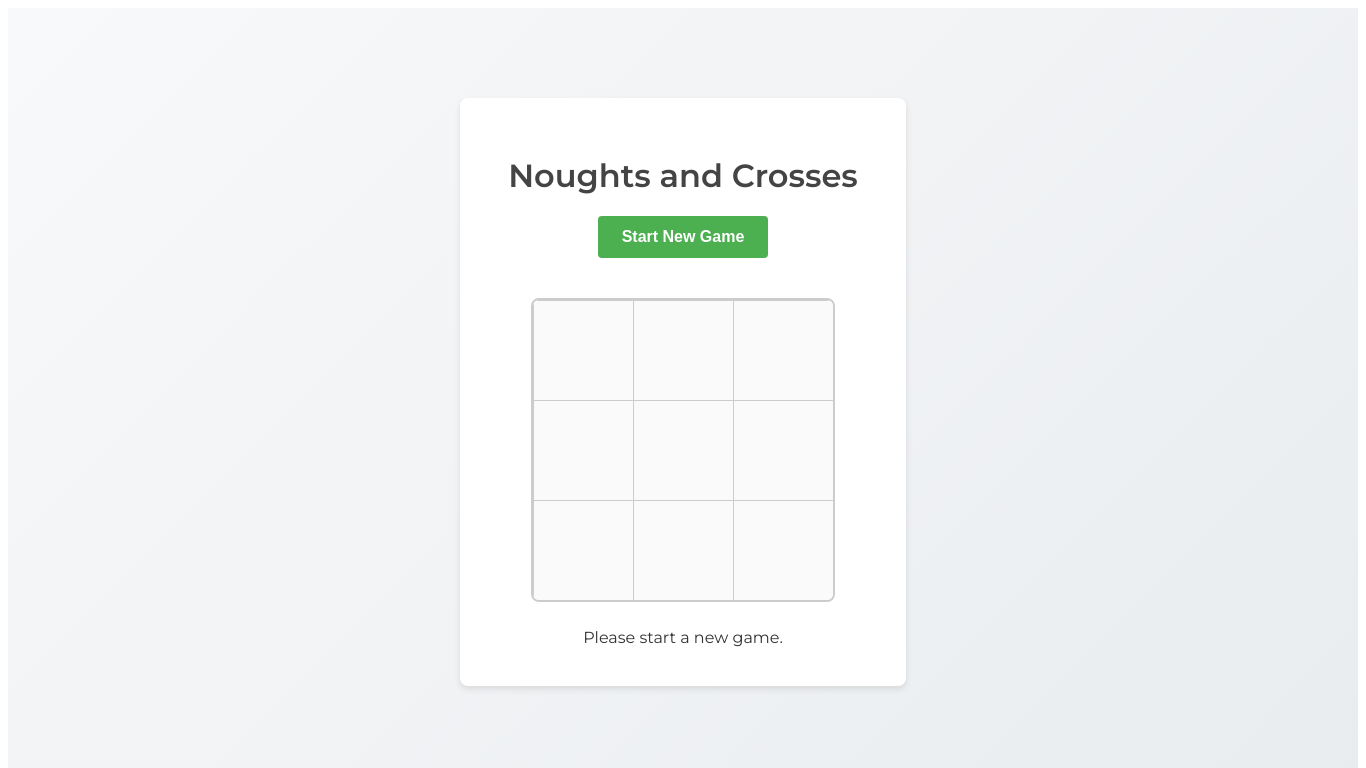
Test case: App component › declares a draw if board is full and no winner
Note: Start New Game
Click the button "Start New Game": (683, 237) x1=598 y1=216 x2=768 y2=258
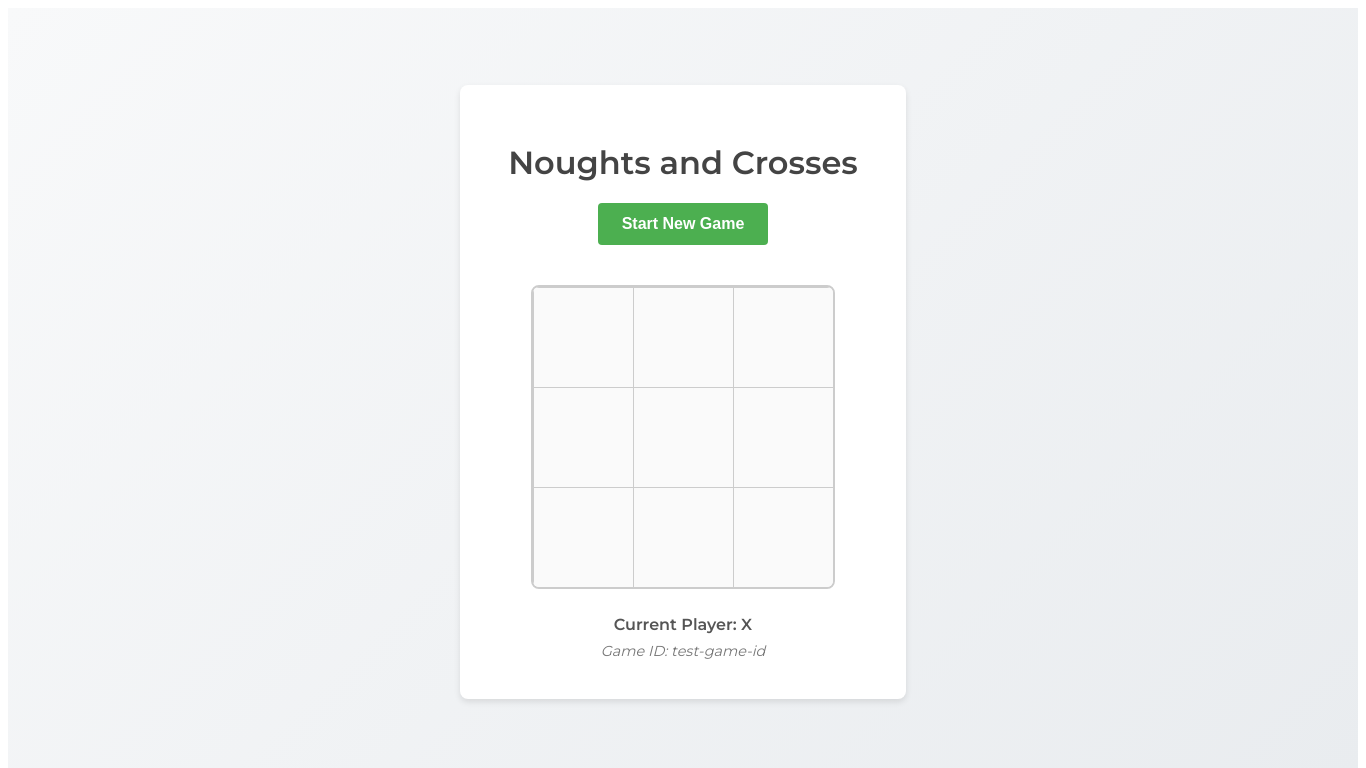
Expected: the text "Game ID: test-game-id" is shown, x1=601 y1=642 x2=765 y2=660
Click the element with test id "square-0": (584, 338) x1=533 y1=287 x2=635 y2=389
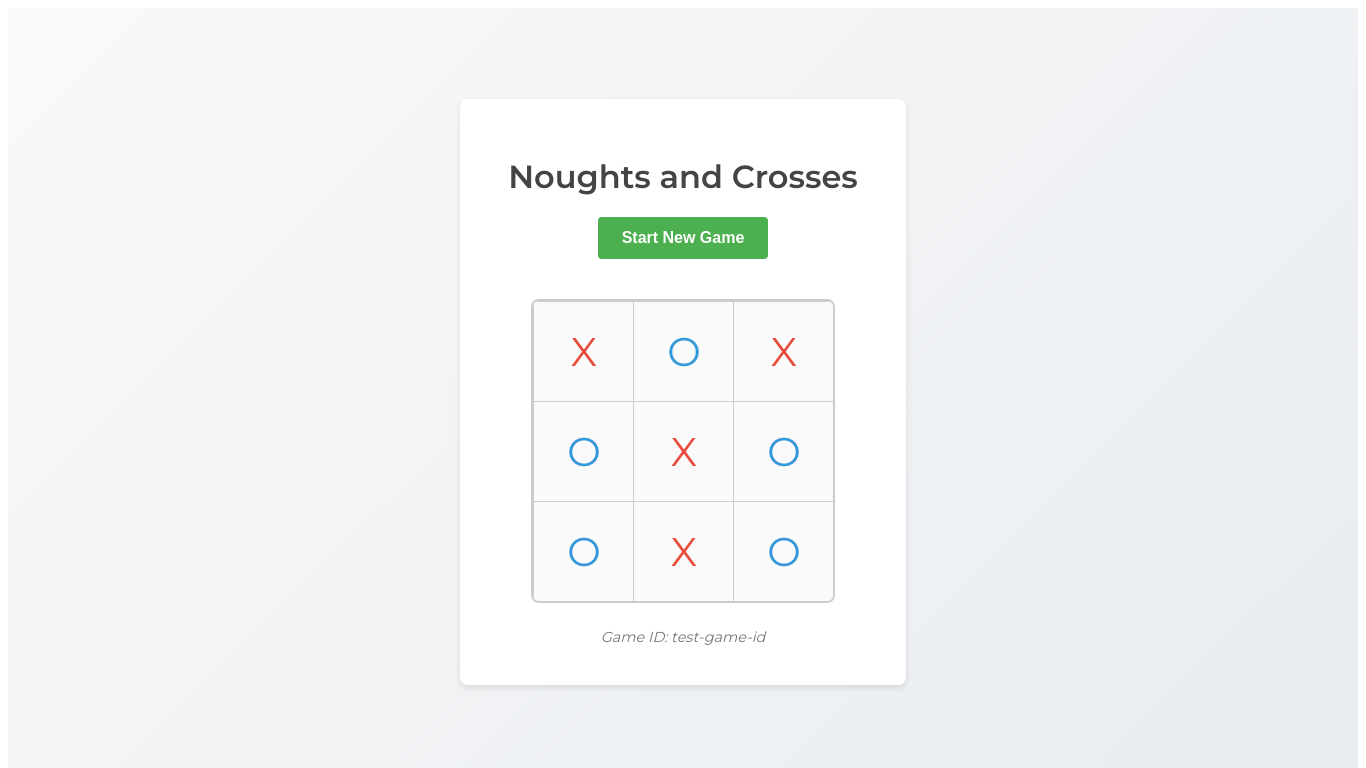
Expected: the text "Current Player:" is gone
